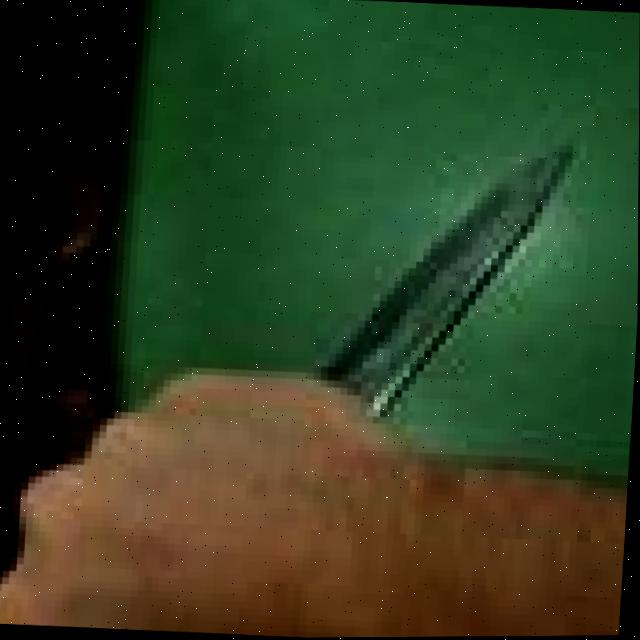knife: (326, 103, 582, 437)
